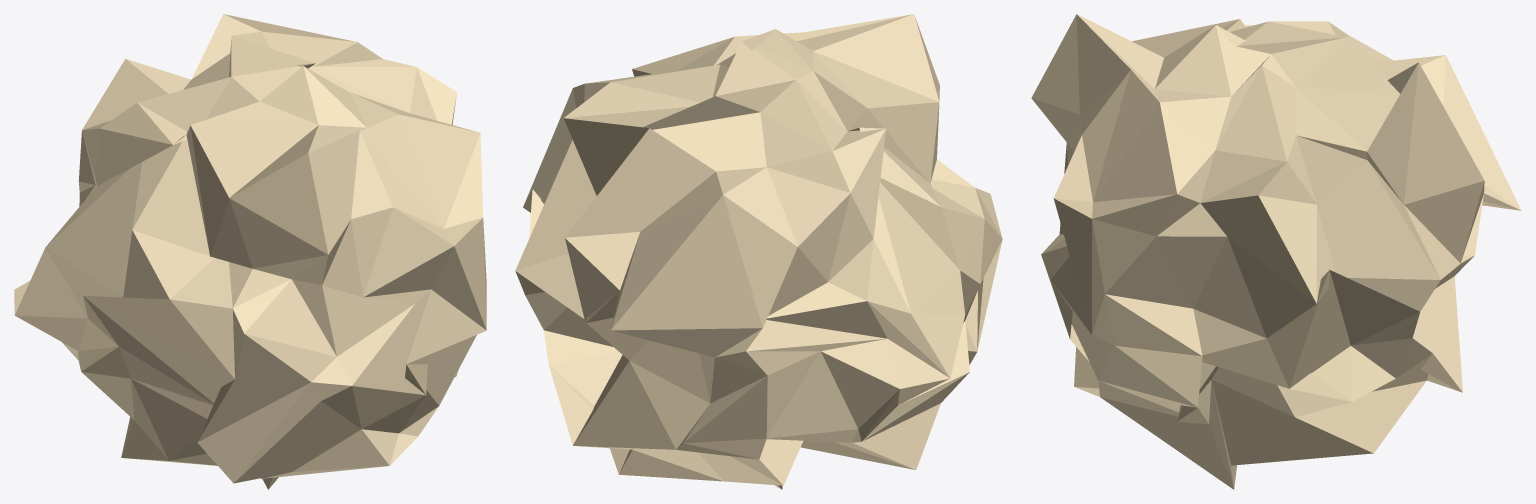
Rendered from ScrunchedPaper.fbx.
3 views of the same model, side by side, from view 1: azimuth 30°, elevation 25°; view 2: azimuth 150°, elevation 25°; view 3: azimuth 270°, elevation 25° (orthographic). The views are drawn at different scales.
Visible parts, largest first — view 1: Paper; view 2: Paper; view 3: Paper.
Part boxes in pixels (box(x1,y1,x2,y2)): Paper: box(14, 14, 486, 489); Paper: box(515, 14, 1002, 489); Paper: box(1031, 14, 1521, 489).
Bounding box in the file's own units: 21.74 × 21.11 × 21.73.
